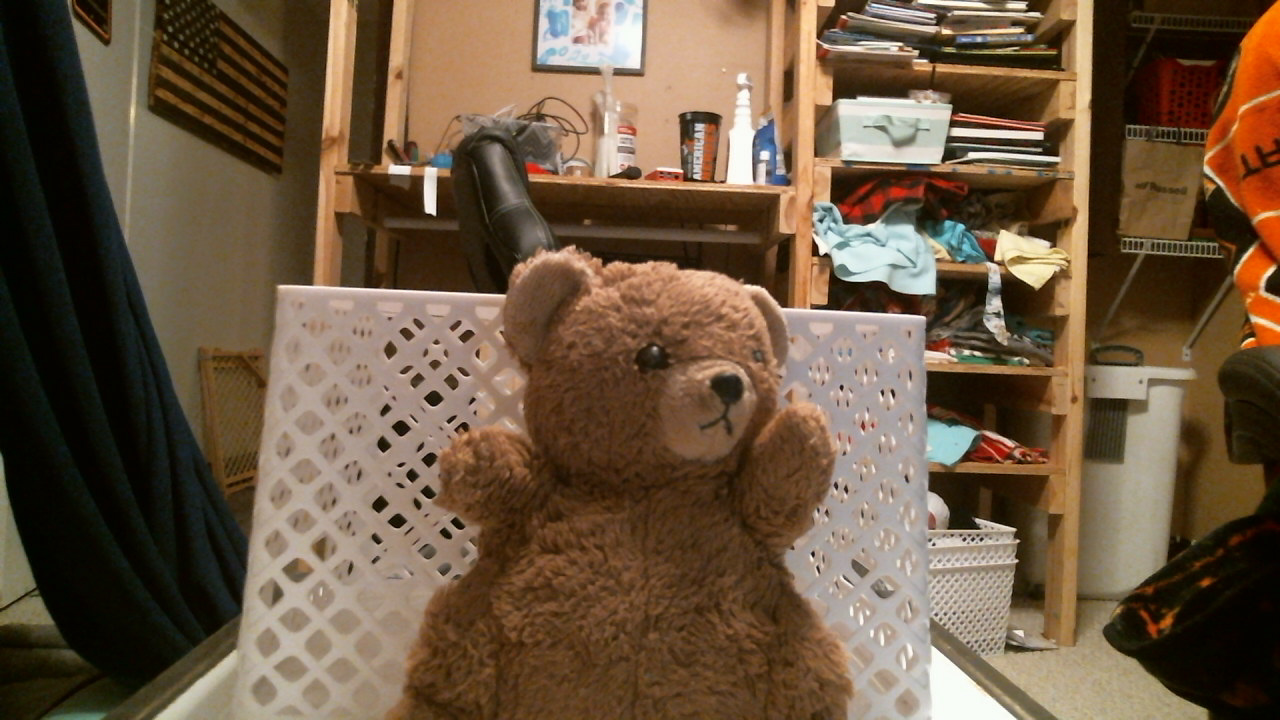Little_Mister_Bear: (638, 341, 772, 459)
